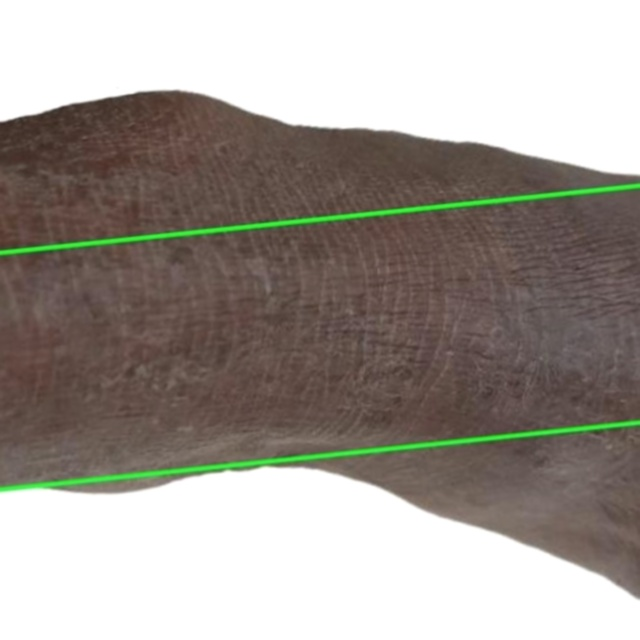Contact Dermatitis: (0, 0, 639, 252), (0, 423, 639, 639)
